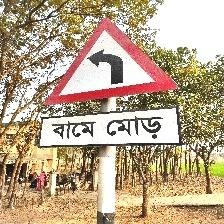Left-Turn: (39, 15, 182, 151)
